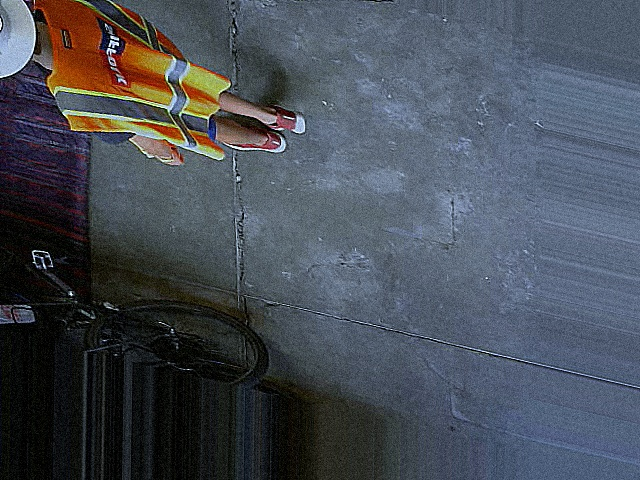three: (0, 0, 2, 40)
